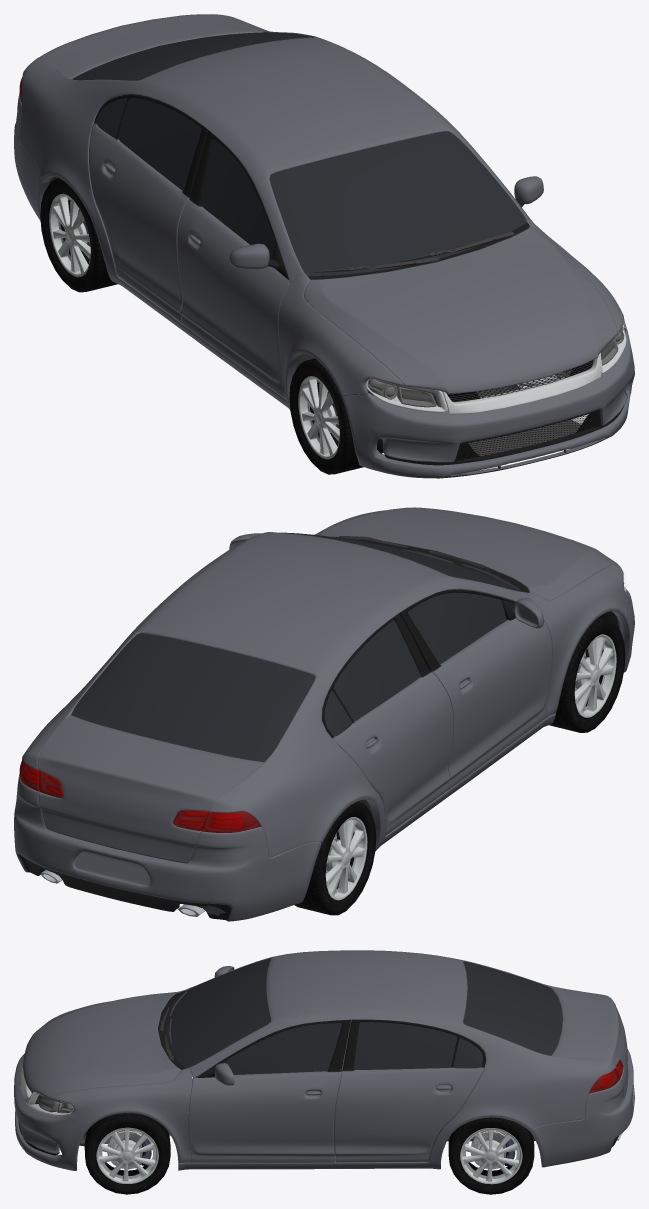
Rendered from generic_sedan_car.glb.
3 views of the same model, one above another, from view 1: azimuth 30°, elevation 25°; view 2: azimuth 150°, elevation 25°; view 3: azimuth 270°, elevation 25° (orthographic). The views are drawn at different scales.
Visible parts, largest first — view 1: Object_23, Object_43, Object_81, generic-tire-low.001_125, generic-tire-low.003_133, Object_25, generic-wheel.001_126, generic-wheel.003_134, Object_121, Object_65, Object_93, Object_123 (+1 smaller); view 2: Object_23, Object_43, generic-tire-low.001_125, generic-tire-low.003_133, Object_183, generic-wheel.001_126, generic-wheel.003_134, Object_25, Object_179, Object_93, Object_211, Object_7; view 3: Object_23, Object_43, generic-tire-low_121, generic-tire-low.002_129, generic-wheel_122, generic-wheel.002_130, Object_7, Object_25, Object_81, Object_93, Object_183.
Boxes of the visible parts, left/top/right/bottom form: Object_23: left=14, top=14, right=634, bottom=478; Object_43: left=72, top=32, right=526, bottom=276; Object_81: left=366, top=323, right=626, bottom=414; generic-tire-low.001_125: left=289, top=358, right=363, bottom=474; generic-tire-low.003_133: left=40, top=178, right=117, bottom=292; Object_25: left=268, top=198, right=624, bottom=465; generic-wheel.001_126: left=298, top=376, right=339, bottom=459; generic-wheel.003_134: left=49, top=193, right=90, bottom=277; Object_121: left=456, top=411, right=598, bottom=460; Object_65: left=49, top=176, right=581, bottom=455; Object_93: left=21, top=90, right=624, bottom=407; Object_123: left=441, top=360, right=593, bottom=401; Object_23: left=14, top=507, right=634, bottom=921; Object_43: left=71, top=532, right=523, bottom=761; generic-tire-low.001_125: left=549, top=616, right=625, bottom=732; generic-tire-low.003_133: left=294, top=801, right=376, bottom=915; Object_183: left=19, top=759, right=260, bottom=832; generic-wheel.001_126: left=574, top=634, right=616, bottom=717; generic-wheel.003_134: left=325, top=817, right=367, bottom=900; Object_25: left=334, top=537, right=619, bottom=629; Object_179: left=22, top=765, right=244, bottom=829; Object_93: left=21, top=582, right=624, bottom=831; Object_211: left=339, top=536, right=519, bottom=589; Object_7: left=40, top=651, right=587, bottom=916; Object_23: left=14, top=950, right=634, bottom=1170; Object_43: left=166, top=958, right=562, bottom=1074; generic-tire-low_121: left=84, top=1113, right=170, bottom=1194; generic-tire-low.002_129: left=448, top=1117, right=534, bottom=1194; generic-wheel_122: left=96, top=1127, right=158, bottom=1183; generic-wheel.002_130: left=460, top=1128, right=522, bottom=1184; Object_7: left=107, top=1130, right=622, bottom=1169; Object_25: left=18, top=990, right=227, bottom=1155; Object_81: left=20, top=1062, right=73, bottom=1115; Object_93: left=38, top=1062, right=620, bottom=1113; Object_183: left=589, top=1060, right=623, bottom=1093.
Bounding box in the file's own units: 2.11 × 1.5 × 4.98.
Materials: 19 (5 with a texture image).
